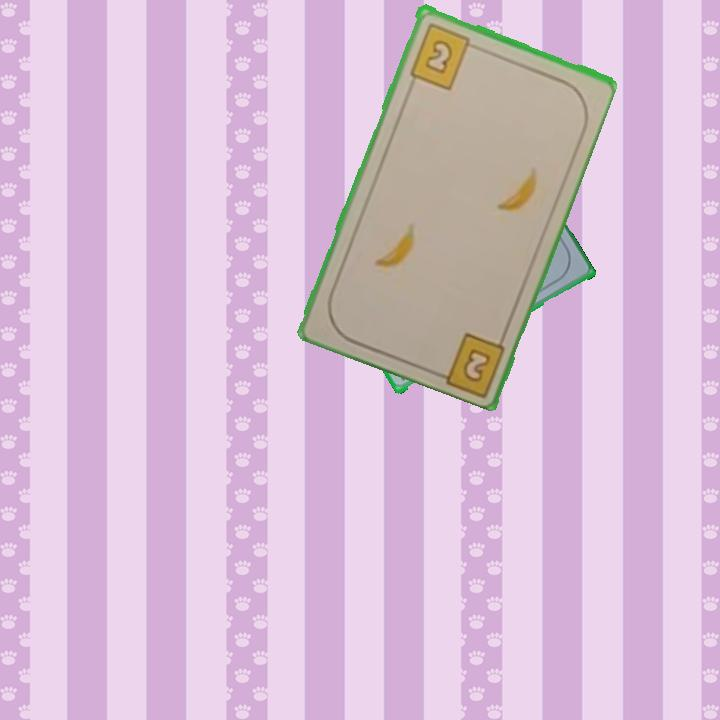2b: (405, 19, 481, 92), (459, 344, 494, 385)
